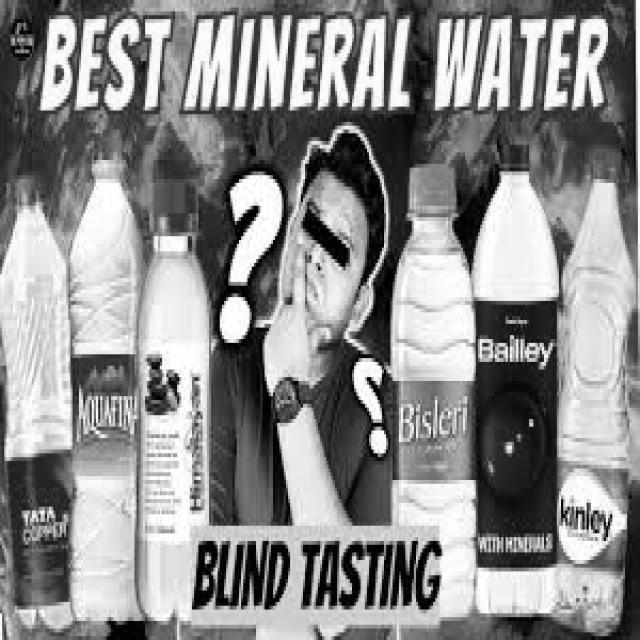bottle: (401, 162, 640, 627), (8, 148, 225, 606)
